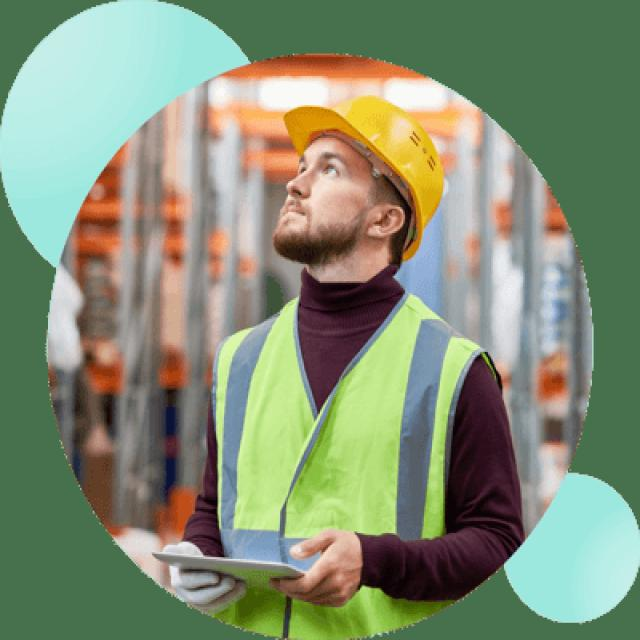helmet: (288, 101, 450, 254)
no-goggles: (290, 154, 348, 189)
vest: (211, 289, 451, 608)
